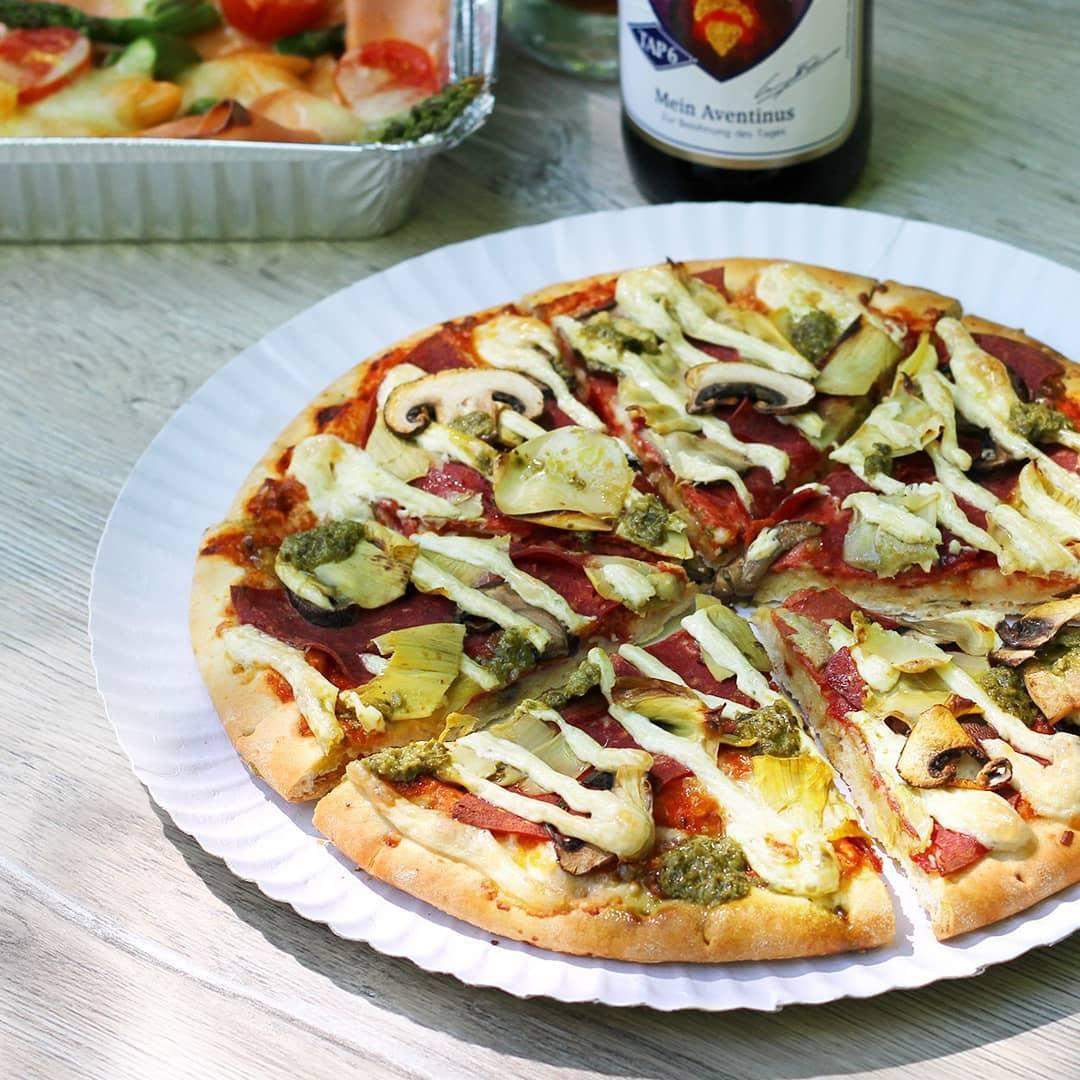Mushroom: (373, 355, 550, 444), (548, 755, 660, 885), (892, 696, 1013, 795), (714, 512, 831, 609), (450, 577, 585, 661), (675, 355, 821, 423), (986, 585, 1080, 674), (275, 556, 411, 617), (1018, 651, 1080, 727), (963, 425, 1031, 480)
Pizza: (193, 247, 1080, 981)
